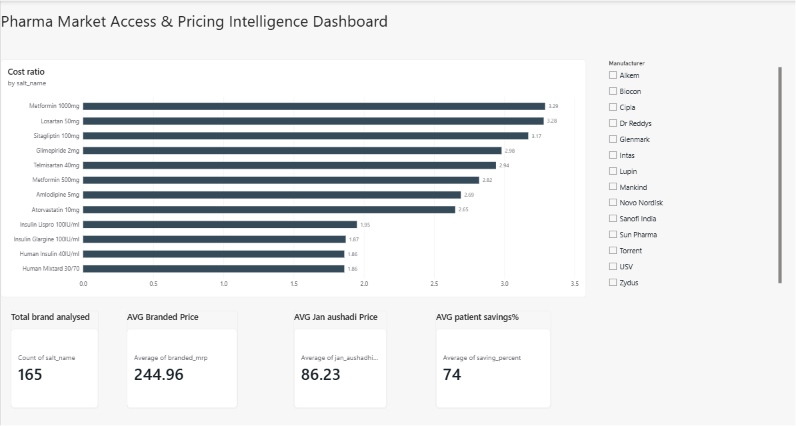

This screenshot's page, from the dashboard's own definition file:
{"tool":"powerbi","page":{"name":"Page 1","canvas":[1920,1080],"ordinal":0},"visuals":[{"type":"barChart","fields":{"Category":["Download-Salt-Summary-12-Salts.salt_name"],"Y":["Download-Salt-Summary-12-Salts.Cost ratio"]},"box":[0,141.7,1396.7,566.7],"z":0},{"type":"cardVisual","title":"Total brand analysed","fields":{"Data":["CountNonNull(Download-Brand-Detail-165-Real-Brands.salt_name)"]},"box":[25,740,210,233.3],"z":1},{"type":"cardVisual","title":"AVG Branded Price ","fields":{"Data":["Avg(Download-Brand-Detail-165-Real-Brands.branded_mrp)"]},"box":[301.7,740,265,233.3],"z":2},{"type":"cardVisual","title":"AVG Jan aushadi Price","fields":{"Data":["Avg(Download-Brand-Detail-165-Real-Brands.jan_aushadhi_price)"]},"box":[698.3,740,223.3,233.3],"z":3},{"type":"cardVisual","title":"AVG patient savings%","fields":{"Data":["Avg(Download-Brand-Detail-165-Real-Brands.saving_percent)"]},"box":[1038.3,740,275,233.3],"z":4},{"type":"textbox","box":[0,21.7,1413.3,100],"z":5},{"type":"slicer","fields":{"Values":["Brand-Detail-165-Real-Brands.manufacturer"]},"box":[1442.5,140,420,545],"z":6}]}

Visuals, with their boxes on the page's 1920x1080 design canvas (x1, y1, x2, y2). These are canvas units, not pixel positions in the 796x426 screenshot, which may show the page scaled, cropped or inside an application window:
barChart - Download-Salt-Summary-12-Salts.salt_name x Download-Salt-Summary-12-Salts.Cost ratio: (x1=0, y1=142, x2=1397, y2=708)
"Total brand analysed" cardVisual: (x1=25, y1=740, x2=235, y2=973)
"AVG Branded Price " cardVisual: (x1=302, y1=740, x2=567, y2=973)
"AVG Jan aushadi Price" cardVisual: (x1=698, y1=740, x2=922, y2=973)
"AVG patient savings%" cardVisual: (x1=1038, y1=740, x2=1313, y2=973)
textbox: (x1=0, y1=22, x2=1413, y2=122)
slicer - Brand-Detail-165-Real-Brands.manufacturer: (x1=1442, y1=140, x2=1862, y2=685)
